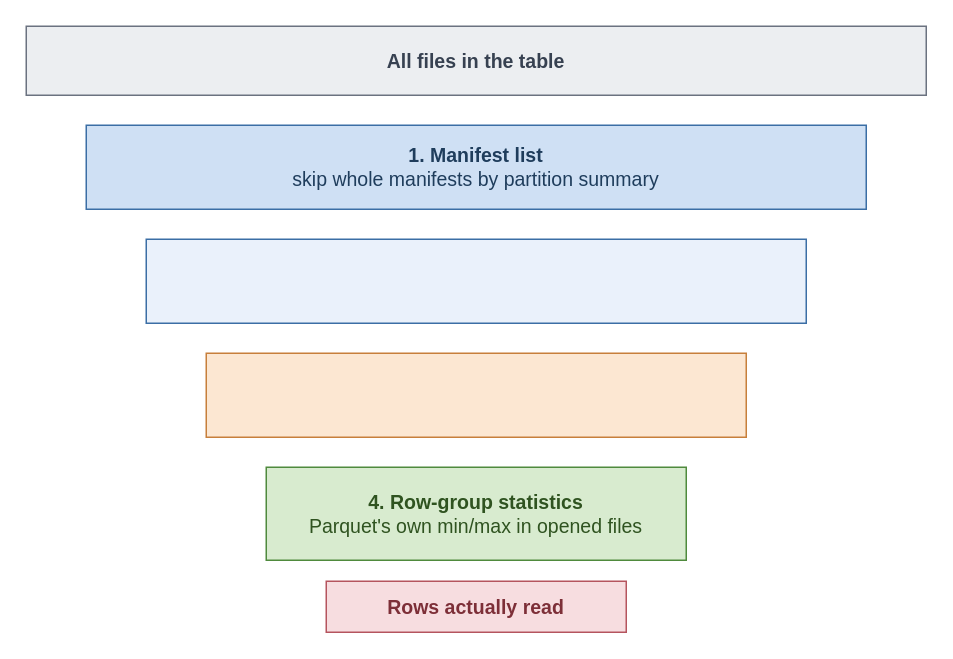
This 953x659 diagram has some shape labels left out. Each missing label, with the centre of its shape:
"2. Manifest entries skip files by partition value and min/max" belongs at (475,280).
"3. Bloom filter (optional) skip row groups for a point lookup" belongs at (475,394).
